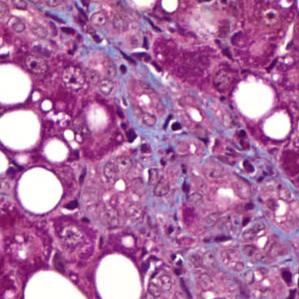steatosis: (14, 168, 65, 216), (228, 73, 277, 120)
